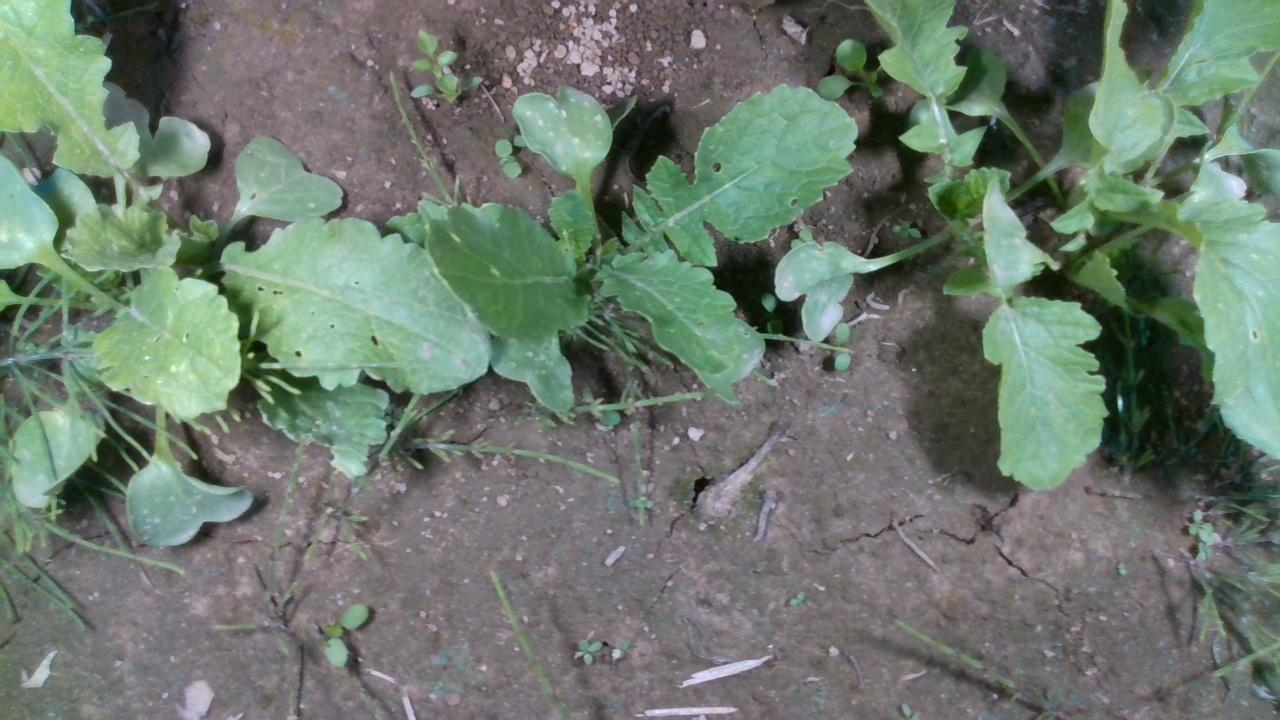weed: (569, 636, 601, 665), (610, 634, 631, 663), (1114, 559, 1128, 580)
